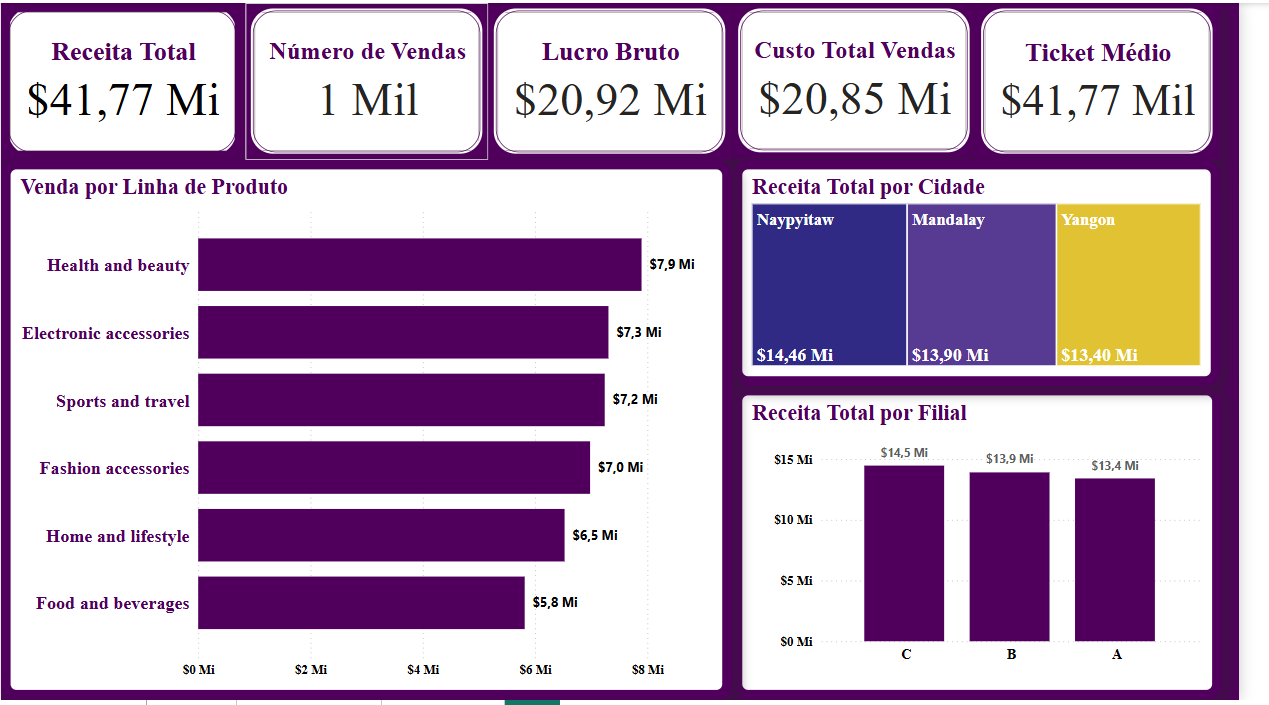

This screenshot's page, from the dashboard's own definition file:
{"tool":"powerbi","page":{"name":"KPIs","canvas":[1280,720],"ordinal":0},"visuals":[{"type":"cardVisual","fields":{"Data":["dataset-IAN-Store.ReceitaBrutaTotal"]},"box":[0,0,251.9,162.3],"z":0},{"type":"cardVisual","fields":{"Data":["dataset-IAN-Store.NumeroVendas"]},"box":[251.9,0,251.9,162.3],"z":1000},{"type":"cardVisual","fields":{"Data":["dataset-IAN-Store.LucroBruto"]},"box":[503.8,0,251.9,162.3],"z":2000},{"type":"cardVisual","fields":{"Data":["dataset-IAN-Store.CustoTotal"]},"box":[755.7,0,251.9,160.6],"z":3000},{"type":"cardVisual","fields":{"Data":["dataset-IAN-Store.TicketMedio"]},"box":[1007.6,0,251.9,162.3],"z":4000},{"type":"clusteredColumnChart","title":"Receita Total por Filial","fields":{"Category":["dataset-IAN-Store.Filial"],"Y":["dataset-IAN-Store.ReceitaBrutaTotal"]},"box":[756.3,395.7,505.2,324.1],"z":5000},{"type":"treemap","title":"Receita Total por Cidade","fields":{"Group":["dataset-IAN-Store.Cidade"],"Values":["dataset-IAN-Store.ReceitaBrutaTotal"]},"box":[755.7,162.3,503.8,233.3],"z":6000},{"type":"clusteredBarChart","title":"Venda por Linha de Produto","fields":{"Category":["dataset-IAN-Store.LinhaProduto"],"Y":["dataset-IAN-Store.ReceitaBrutaTotal"]},"box":[0,162.3,755.7,557.9],"z":7000}]}

Visuals, with their boxes in screenshot pixels (x1, y1, x2, y2), scaled from the page's 1280x720 canvas onto the 1269x705 screenshot:
cardVisual - dataset-IAN-Store.ReceitaBrutaTotal: left=0, top=0, right=250, bottom=159
cardVisual - dataset-IAN-Store.NumeroVendas: left=250, top=0, right=499, bottom=159
cardVisual - dataset-IAN-Store.LucroBruto: left=499, top=0, right=749, bottom=159
cardVisual - dataset-IAN-Store.CustoTotal: left=749, top=0, right=999, bottom=157
cardVisual - dataset-IAN-Store.TicketMedio: left=999, top=0, right=1249, bottom=159
"Receita Total por Filial" clusteredColumnChart: left=750, top=387, right=1251, bottom=704
"Receita Total por Cidade" treemap: left=749, top=159, right=1249, bottom=387
"Venda por Linha de Produto" clusteredBarChart: left=0, top=159, right=749, bottom=704
